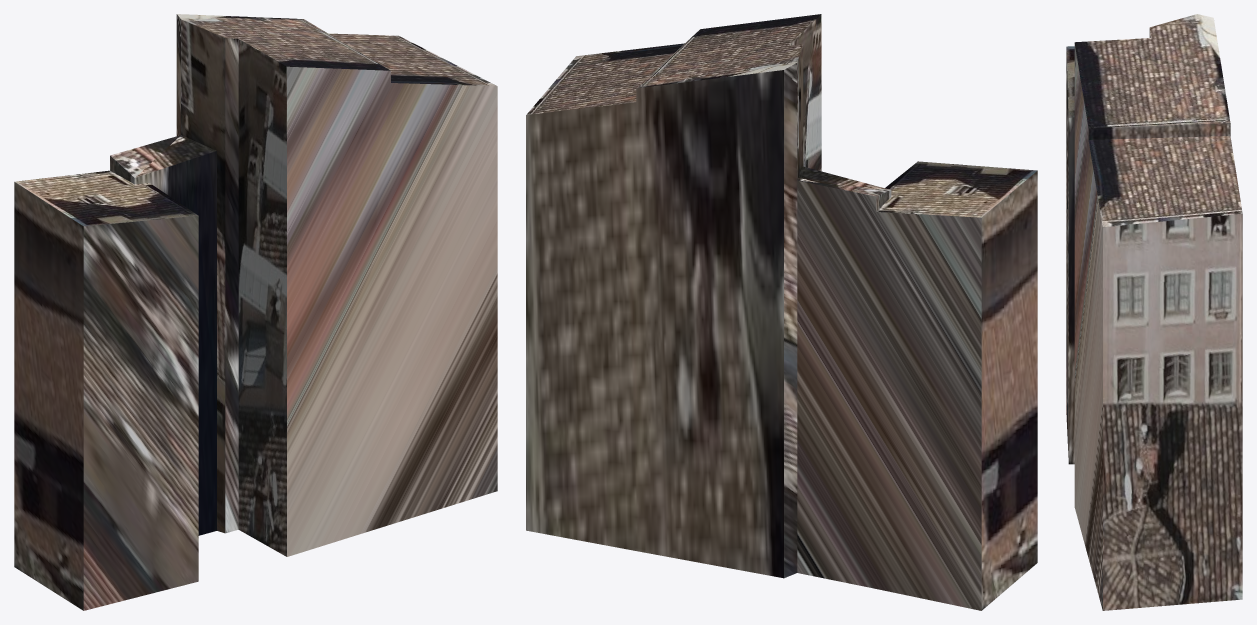
3 renders of one model, left to right at view 1: azimuth 30°, elevation 25°; view 2: azimuth 150°, elevation 25°; view 3: azimuth 270°, elevation 25°, orthographic. The views are drawn at different scales.
Parts seen in each view (by area): view 1: Z_UP; view 2: Z_UP; view 3: Z_UP.
Boxes of the visible parts, x1=… form: Z_UP: x1=14, y1=14, x2=497, y2=610; Z_UP: x1=526, y1=14, x2=1037, y2=610; Z_UP: x1=1066, y1=14, x2=1242, y2=610.
Bounding box in the file's own units: 20.67 × 22.44 × 7.57.
2 materials, 1 textured.
